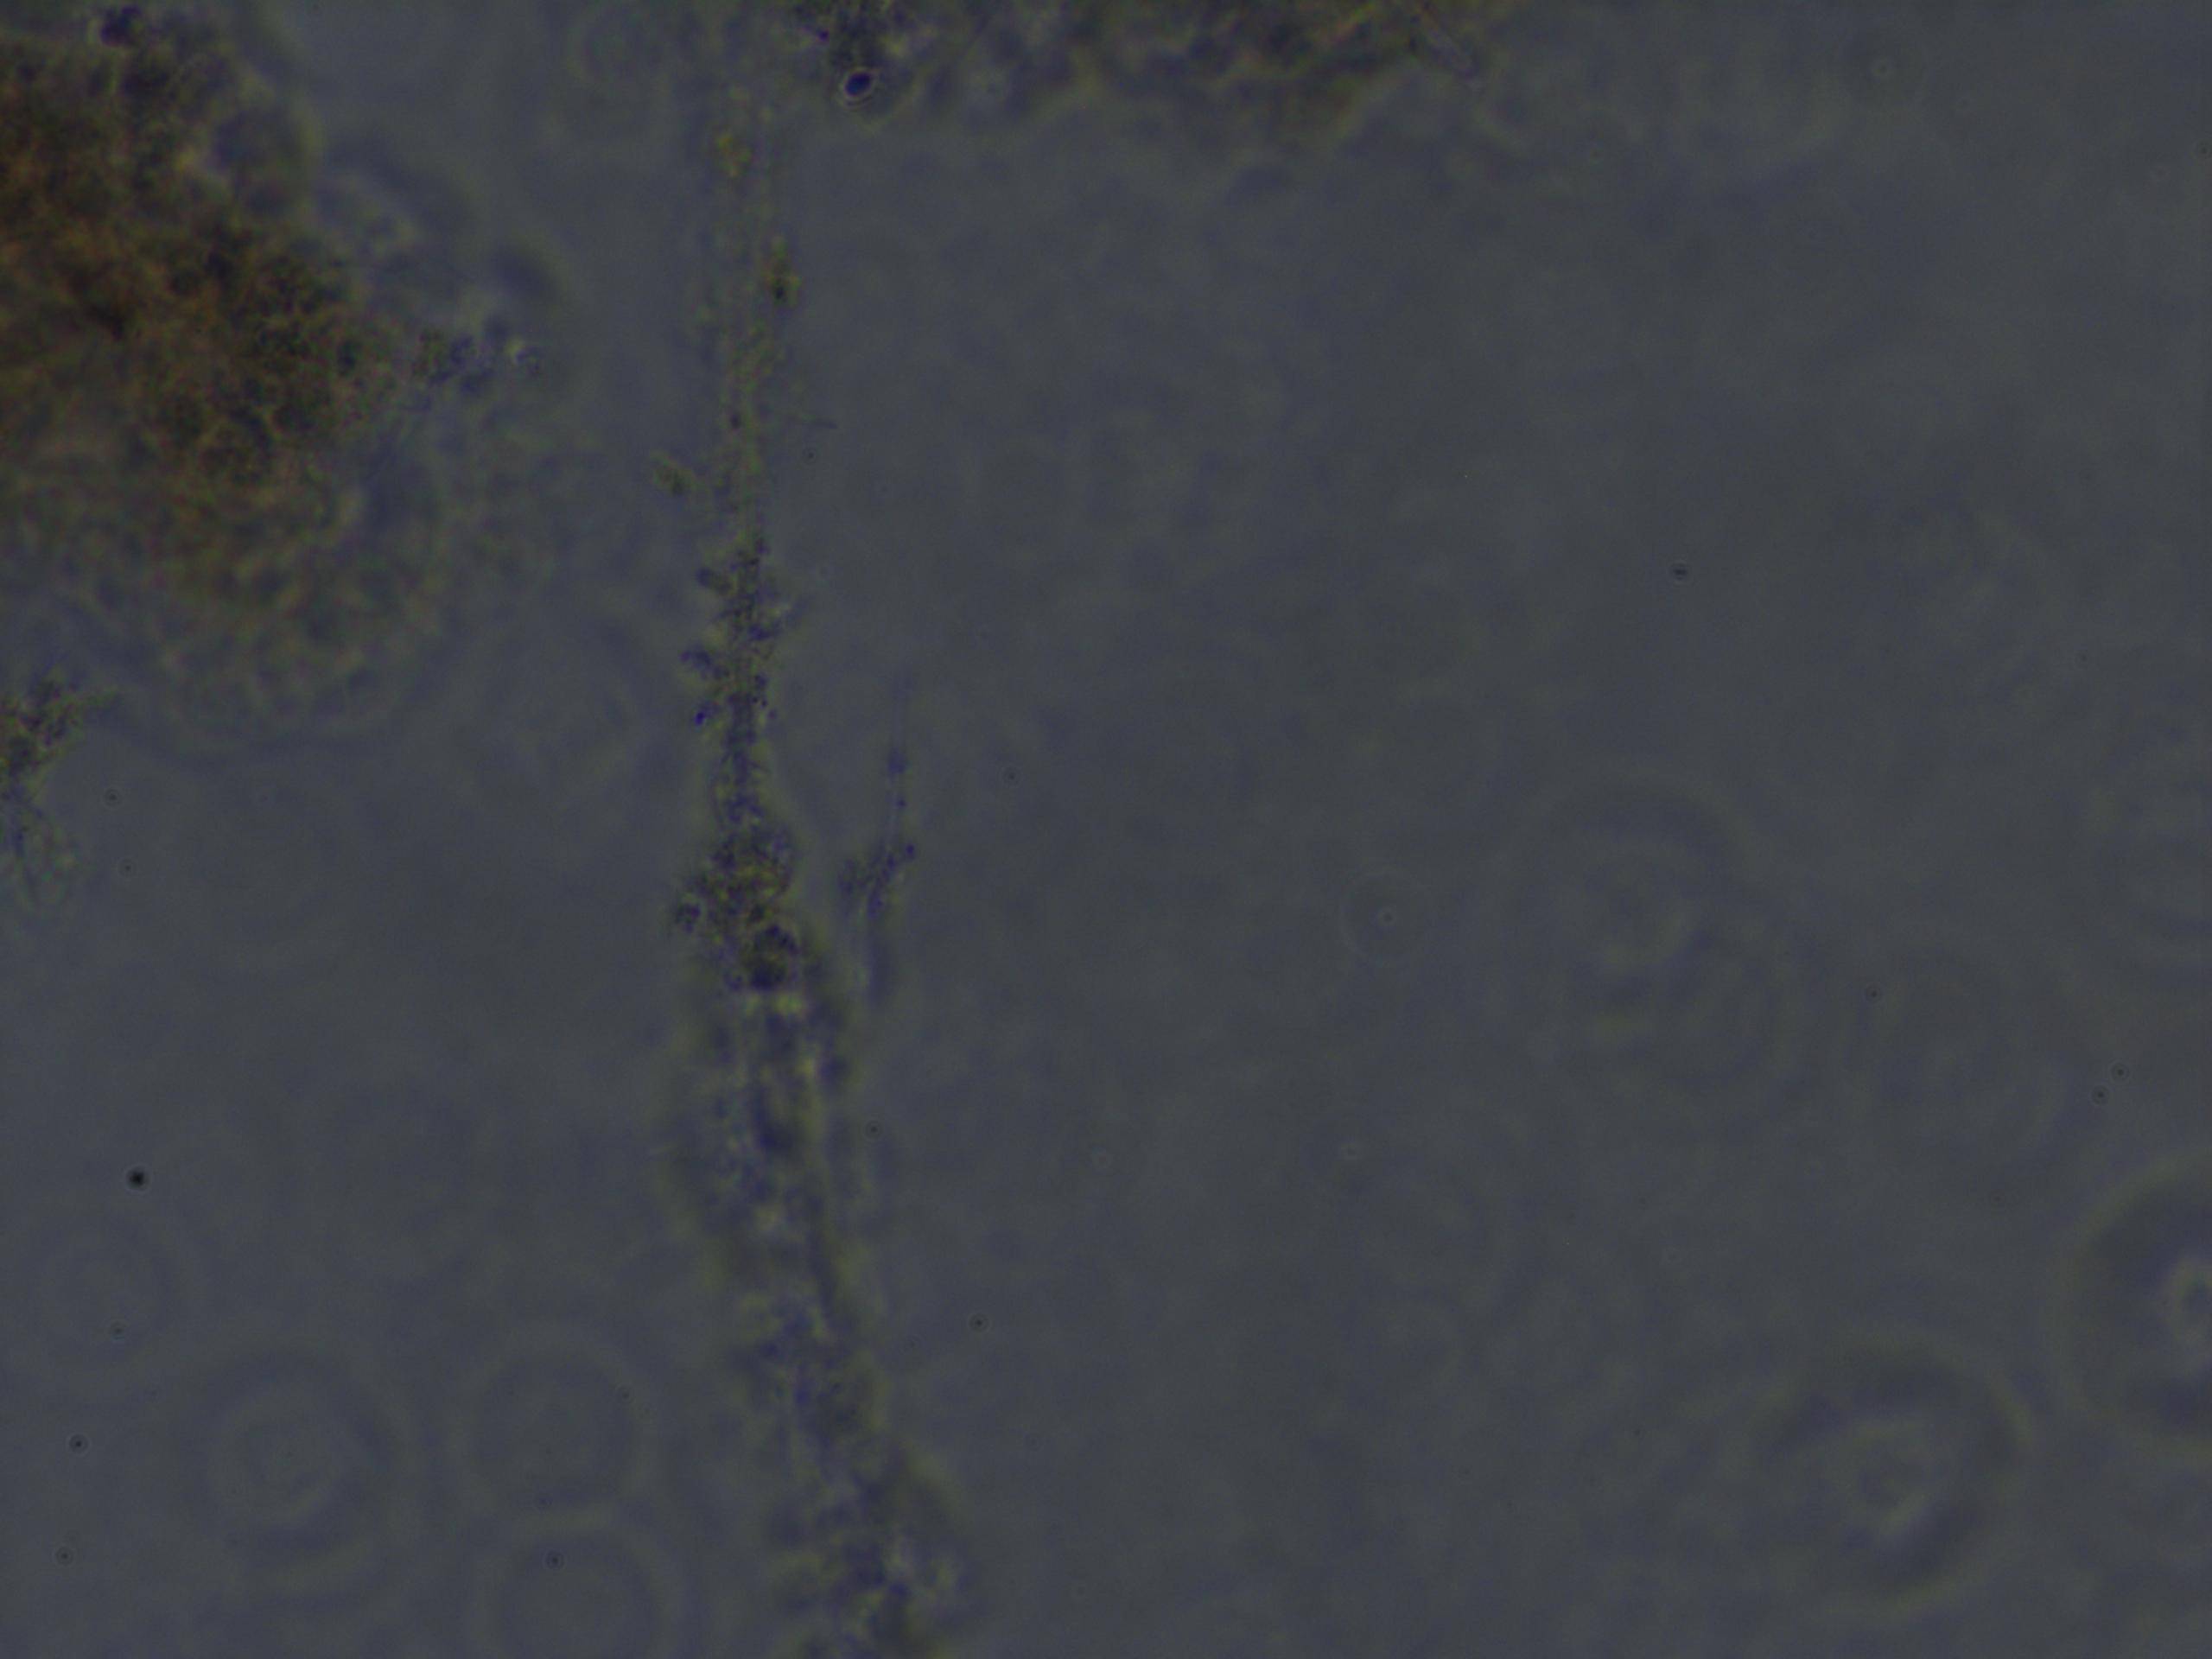filament: (651, 3, 984, 1659)
